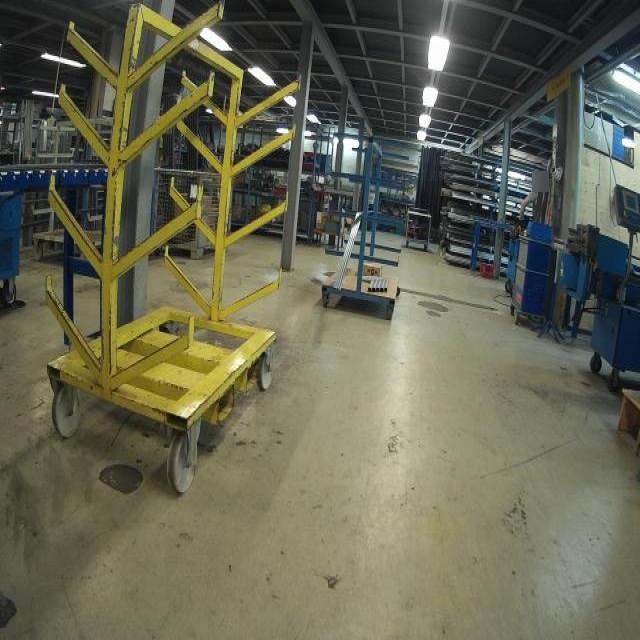stillage: (160, 171, 228, 259)
